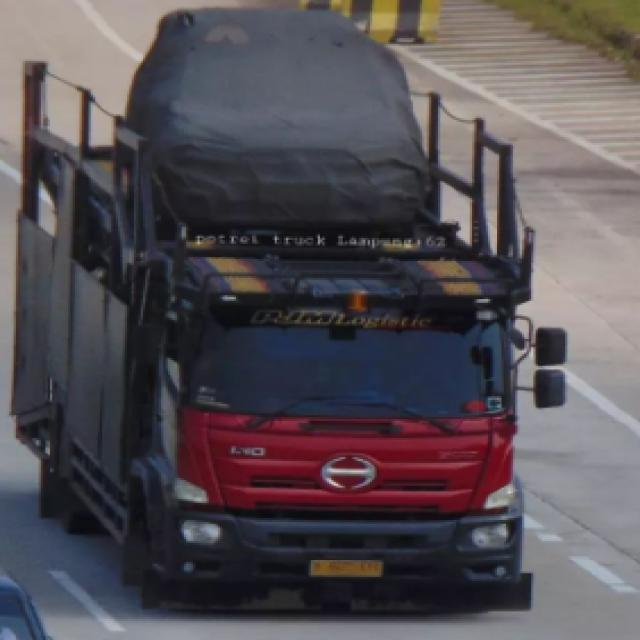Truck: (21, 7, 567, 622)
